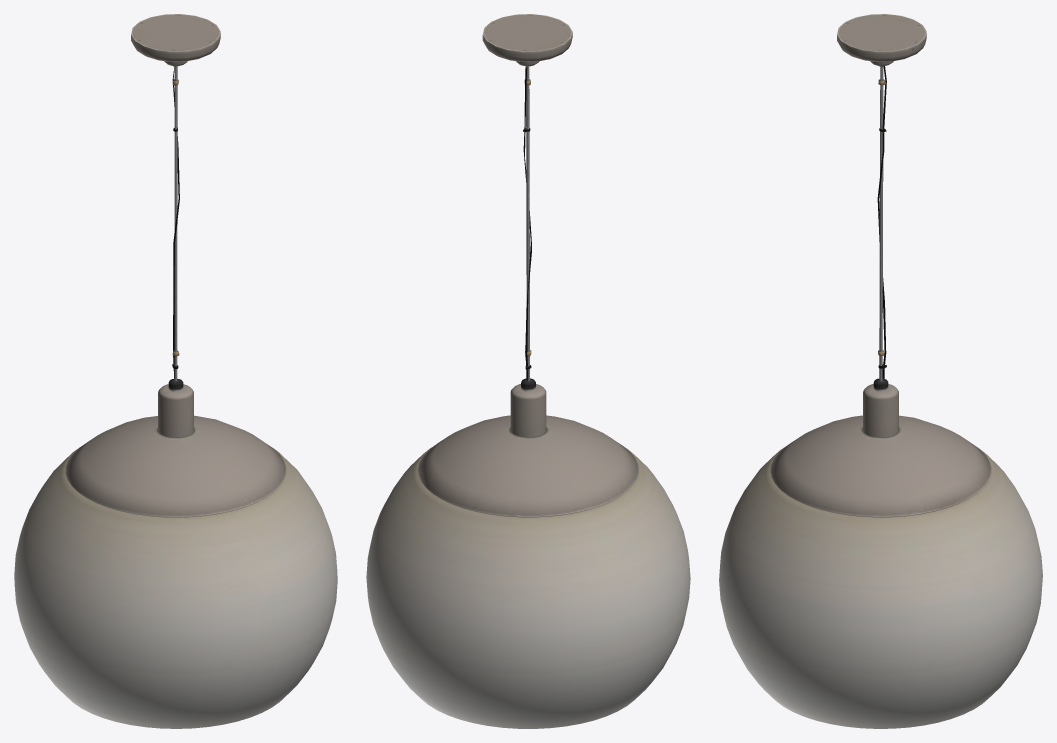
File: modern_ceiling_lamp_01.glb
3 views of the same model, side by side, from view 1: azimuth 30°, elevation 25°; view 2: azimuth 150°, elevation 25°; view 3: azimuth 270°, elevation 25° (orthographic).
Parts seen in each view (by area): view 1: modern_ceiling_lamp_01; view 2: modern_ceiling_lamp_01; view 3: modern_ceiling_lamp_01.
Part boxes in pixels (x1,y1,x2,y2): modern_ceiling_lamp_01: (14,14,337,728); modern_ceiling_lamp_01: (366,14,690,728); modern_ceiling_lamp_01: (719,14,1042,728).
Size of the model in its own units: 0.4316 by 0.9512 by 0.4316.
Materials: 2 (2 with a texture image).
